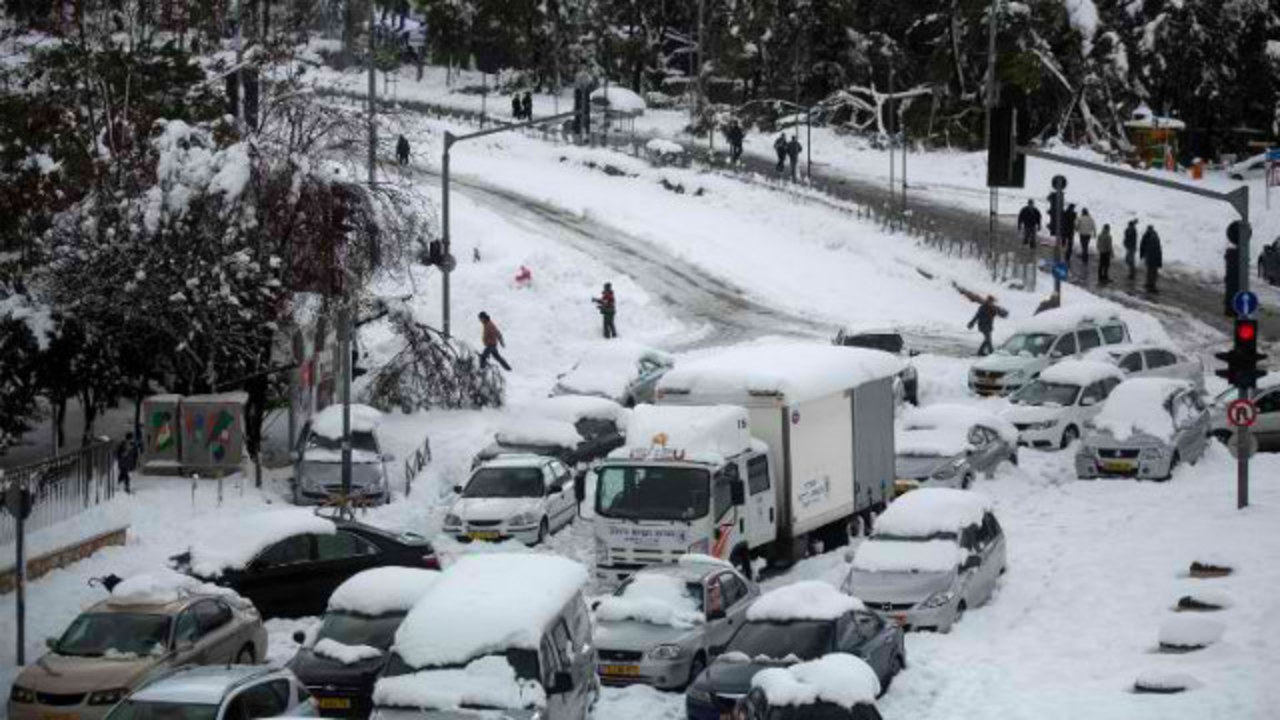car: (130, 498, 443, 638), (367, 551, 599, 718), (7, 579, 266, 719), (841, 482, 1009, 631), (701, 592, 903, 706), (587, 556, 748, 692), (291, 580, 429, 706), (1076, 374, 1212, 482), (101, 655, 322, 719), (443, 452, 574, 549), (896, 394, 1019, 488), (1012, 347, 1114, 441), (545, 334, 673, 407), (475, 402, 621, 465), (288, 411, 387, 503), (968, 317, 1128, 369), (1100, 332, 1211, 398), (843, 321, 921, 397), (1219, 366, 1276, 452)
person: (471, 308, 511, 372), (113, 426, 140, 494), (589, 282, 623, 335), (1054, 202, 1078, 265), (1142, 219, 1161, 293), (1018, 192, 1041, 248), (1096, 220, 1115, 282), (394, 125, 411, 173), (1079, 206, 1094, 260), (1126, 215, 1140, 272), (787, 134, 804, 179), (773, 124, 786, 173), (730, 121, 745, 161)
truck: (596, 343, 904, 584)
